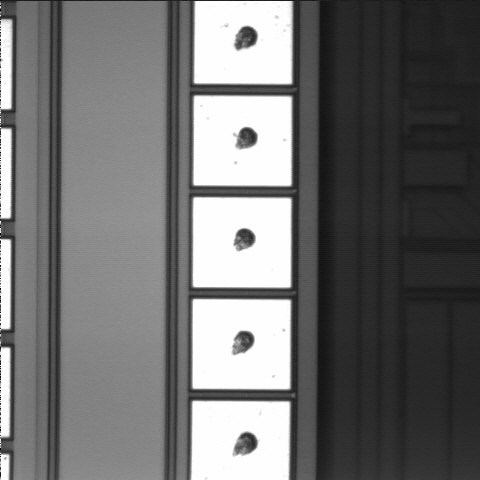pad: (193, 197, 291, 288), (194, 96, 292, 186), (193, 299, 290, 389)
